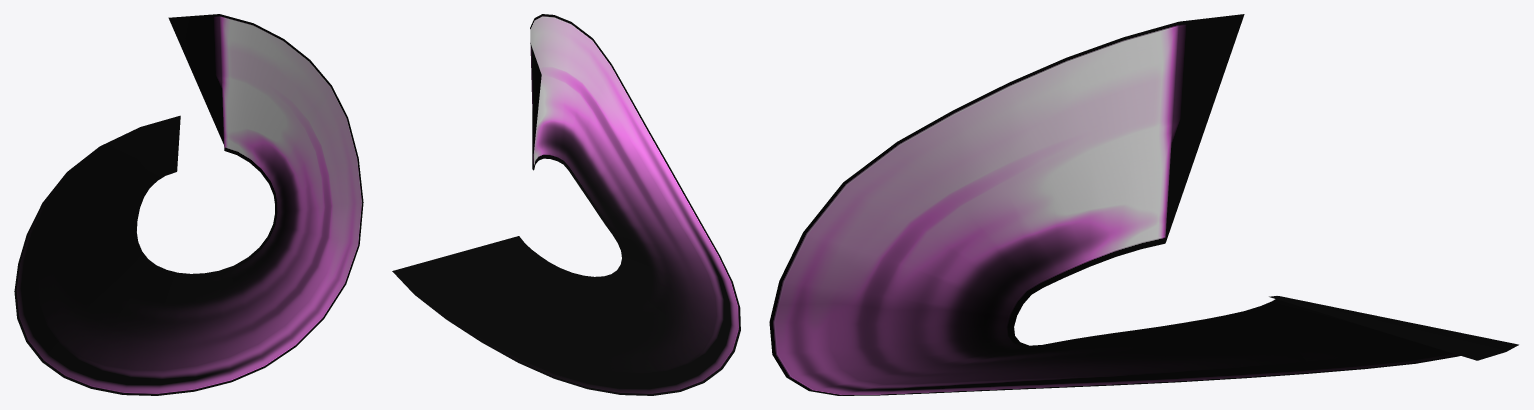
Rendered from Mesh_Snowwhite_005_wjl.FBX.
3 renders of one model, left to right at view 1: azimuth 30°, elevation 25°; view 2: azimuth 150°, elevation 25°; view 3: azimuth 270°, elevation 25°, orthographic. The views are drawn at different scales.
Visible parts, largest first — view 1: Plane002; view 2: Plane002; view 3: Plane002.
Part boxes in pixels (x1,y1,x2,y2): Plane002: (14,14,363,395); Plane002: (392,14,740,395); Plane002: (769,14,1518,395).
Bounding box in the file's own units: 183 × 233 × 313.
